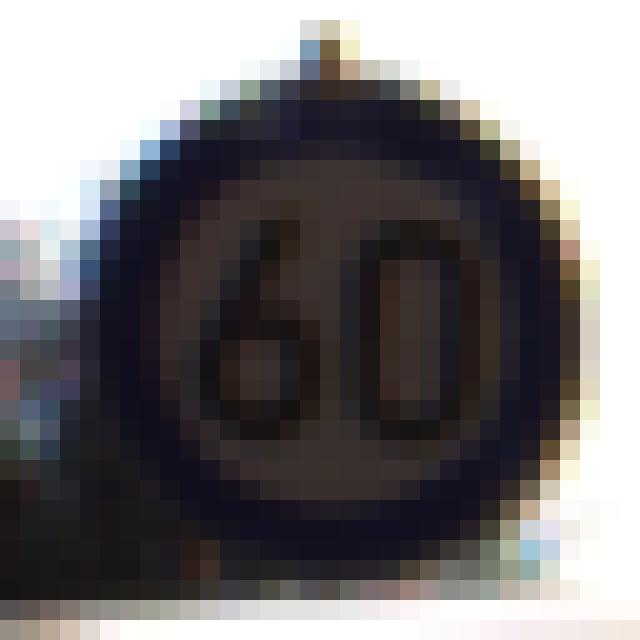SPEED-LIMIT-60: (84, 57, 580, 586)
